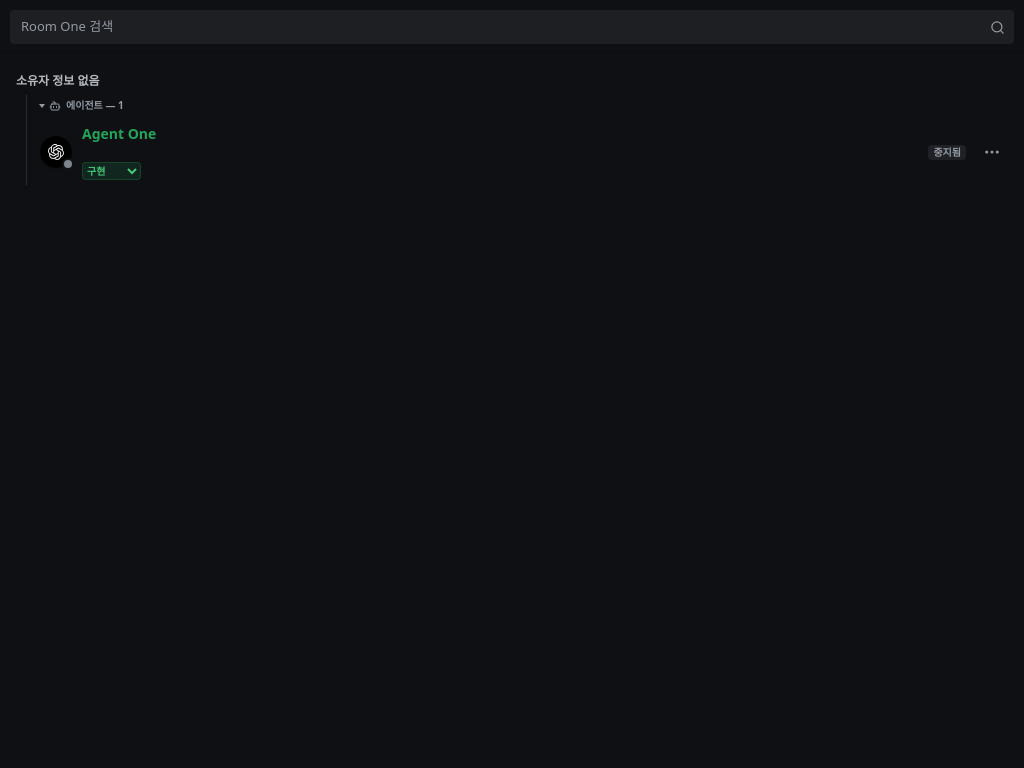
MemberList component wiring › opens only moderation when the overflow SVG receives pointer input
This screenshot has width=1024, height=768.
Click the button named "Agent One 관리 메뉴".
click(992, 152)  # box [976,136,1008,168]
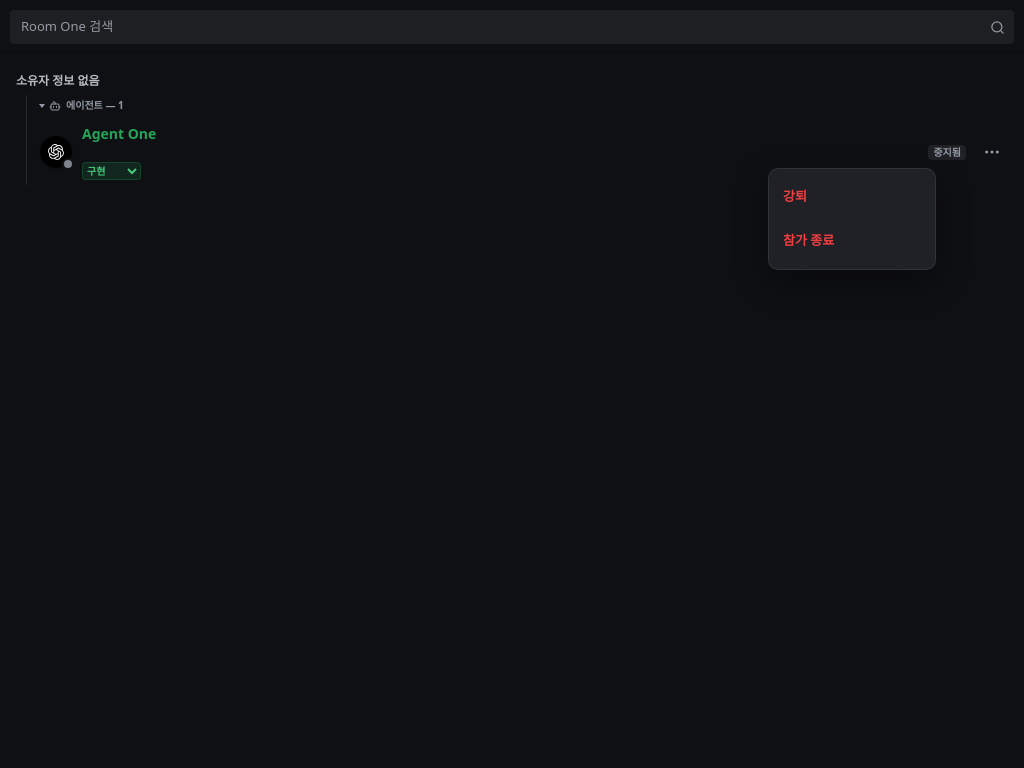
Expected: the menu is shown, [768,168,936,270]
Click the button with aria-label "Agent One 강퇴".
click(852, 196)  # box [775,174,929,218]
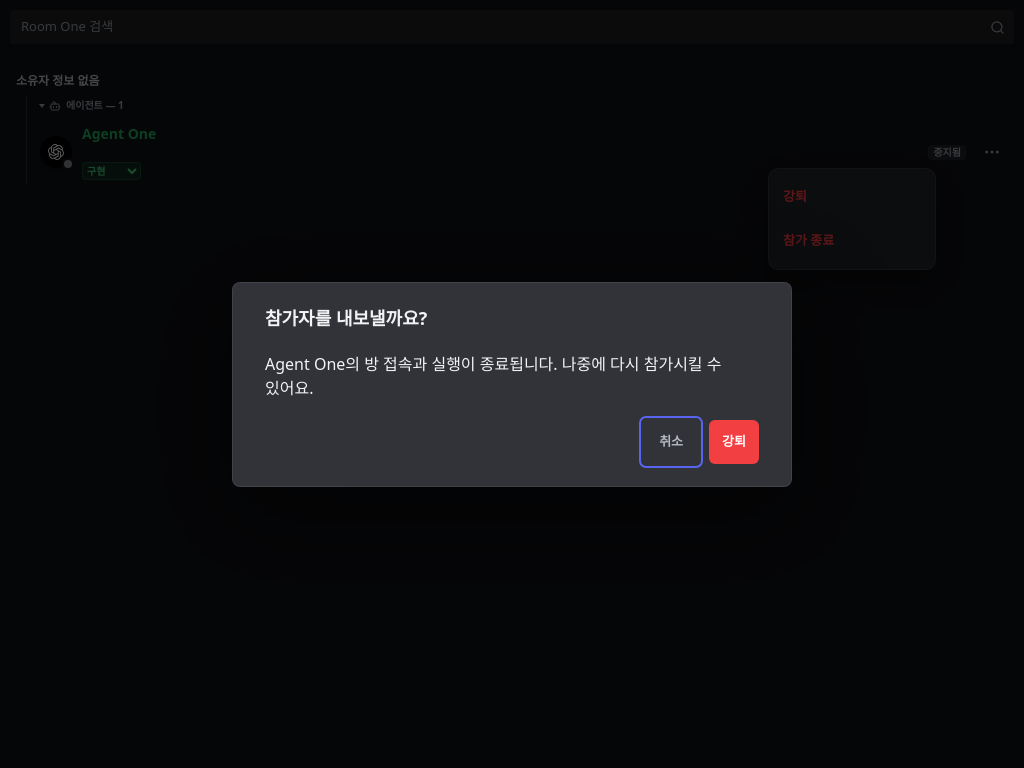
Expected: the button "강퇴" is shown, [709,420,759,464]
